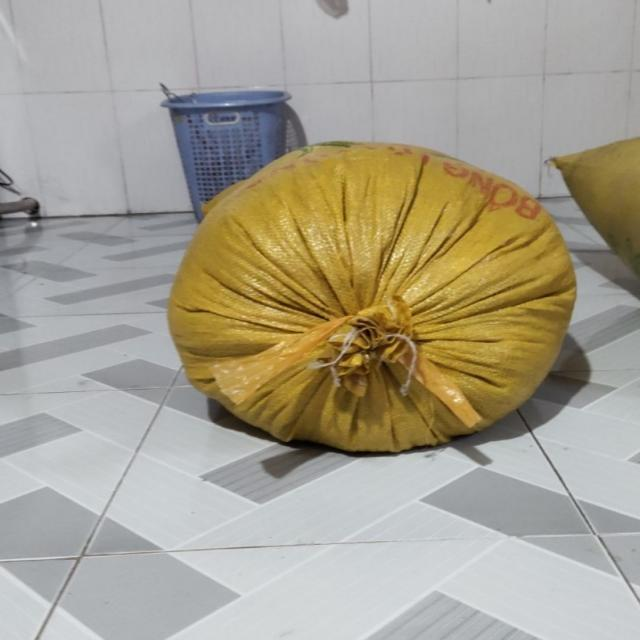gunny_bag: (168, 143, 577, 453)
